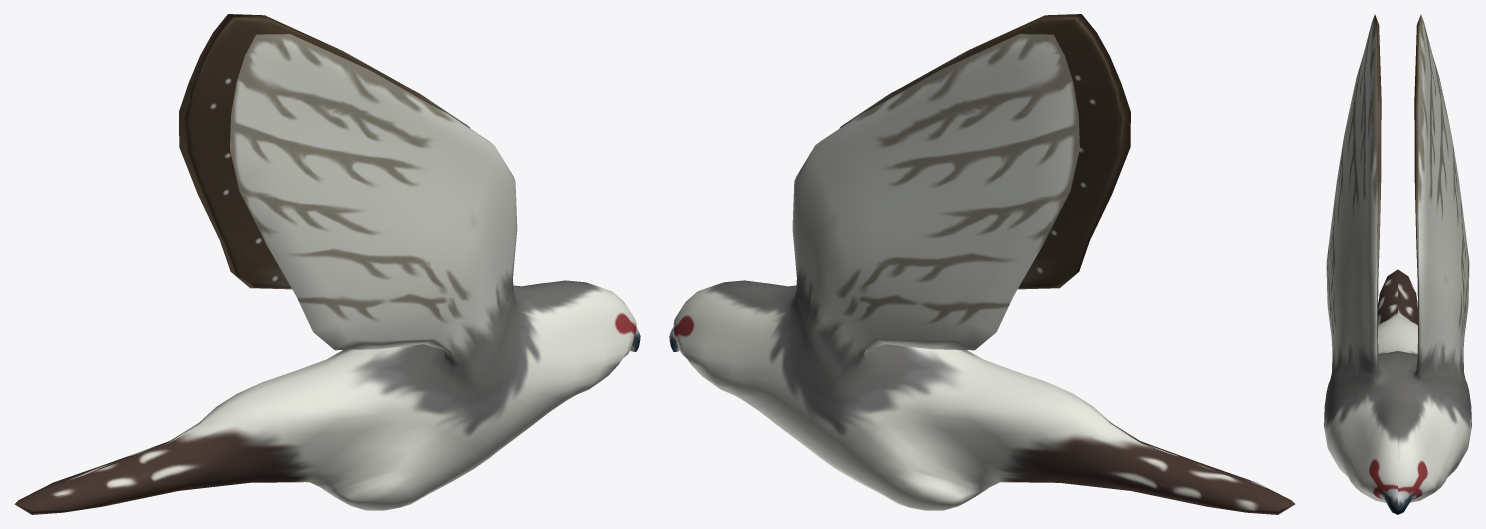
The model's file is falconBody.fbx.
3 renders of one model, left to right at view 1: azimuth 30°, elevation 25°; view 2: azimuth 150°, elevation 25°; view 3: azimuth 270°, elevation 25°, orthographic. The views are drawn at different scales.
Parts seen in each view (by area): view 1: pSphere3; view 2: pSphere3; view 3: pSphere3.
Boxes of the visible parts, box(x1,y1,x2,y2) form: pSphere3: box(14, 14, 640, 514); pSphere3: box(669, 14, 1295, 514); pSphere3: box(1324, 14, 1471, 514).
Bounding box in the file's own units: 2.68 × 2.04 × 0.6724.
